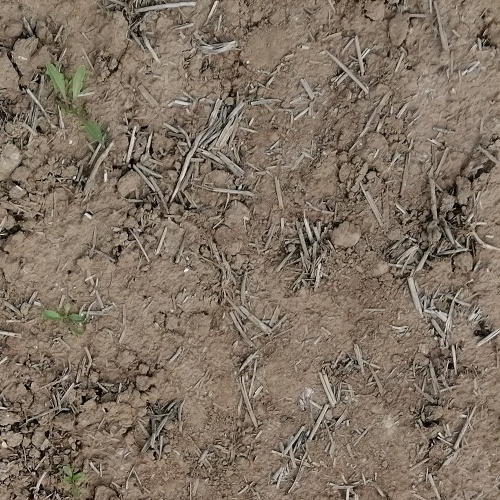beet: (46, 61, 104, 143), (43, 310, 87, 323), (61, 471, 81, 487)
